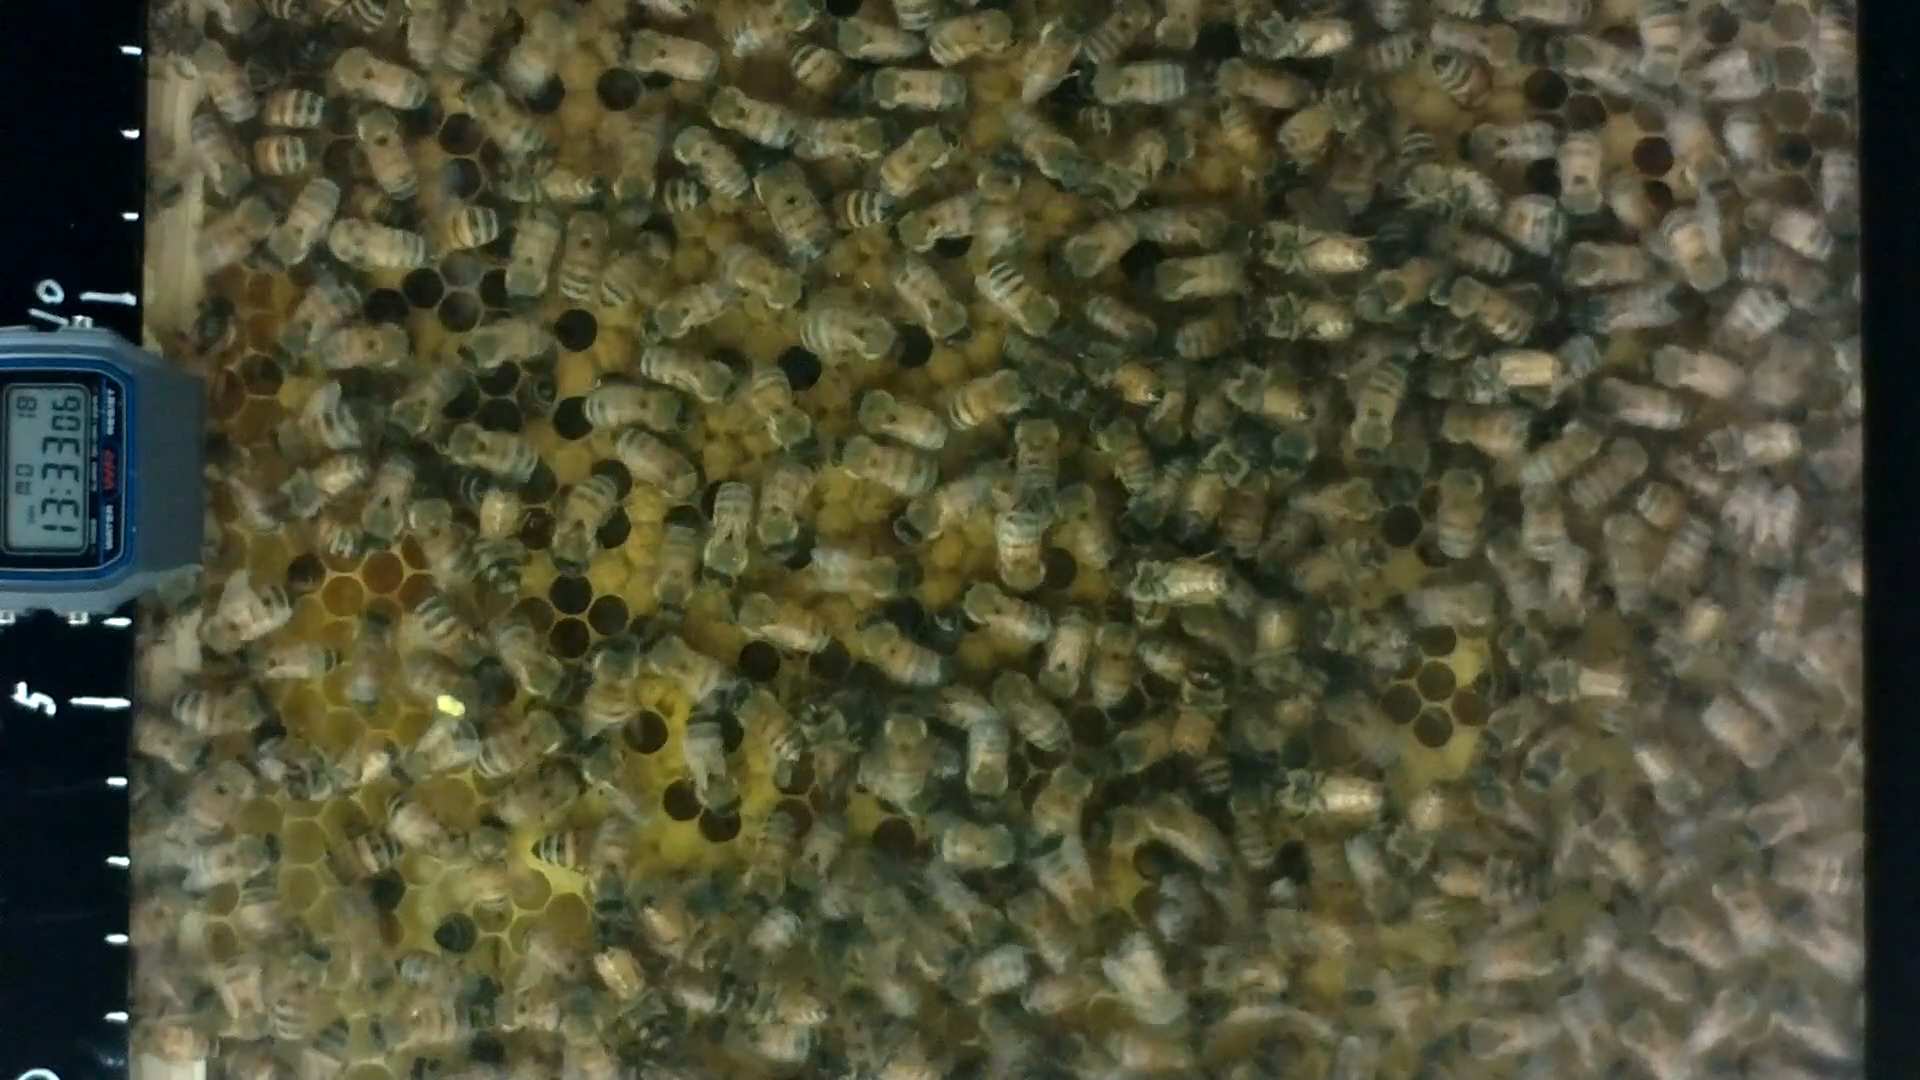hati: (749, 154, 833, 262), (713, 585, 831, 659), (404, 489, 477, 600), (349, 103, 423, 208), (680, 704, 744, 825), (884, 251, 964, 345), (456, 82, 542, 169), (977, 255, 1065, 339), (1352, 351, 1414, 467), (492, 617, 576, 702), (1658, 203, 1733, 295), (698, 82, 796, 152), (857, 615, 949, 688), (436, 417, 537, 484), (553, 471, 617, 574), (827, 438, 938, 497), (476, 709, 568, 781), (327, 220, 425, 287), (200, 582, 290, 650), (938, 367, 1027, 435), (327, 46, 426, 108), (634, 342, 740, 400), (173, 684, 276, 742), (960, 582, 1050, 647), (1433, 448, 1484, 566), (1083, 58, 1196, 109), (603, 228, 671, 313), (749, 359, 808, 454), (963, 709, 1013, 822), (582, 382, 687, 435), (310, 327, 415, 378), (613, 32, 719, 82), (855, 67, 971, 112), (1149, 255, 1253, 303), (704, 477, 749, 589), (591, 630, 638, 731), (506, 207, 556, 301), (556, 207, 603, 309), (880, 702, 926, 803), (276, 179, 327, 269), (1095, 605, 1134, 717), (469, 819, 513, 911)
